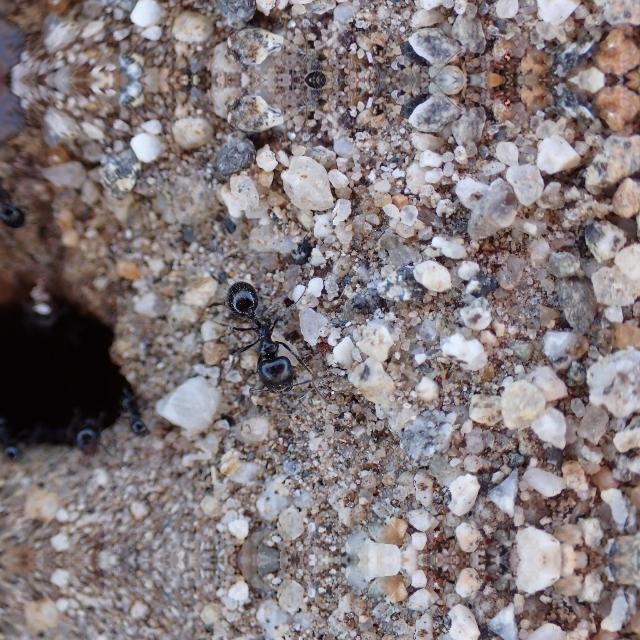Messor: (206, 260, 318, 422), (63, 412, 117, 462), (114, 386, 156, 436)
